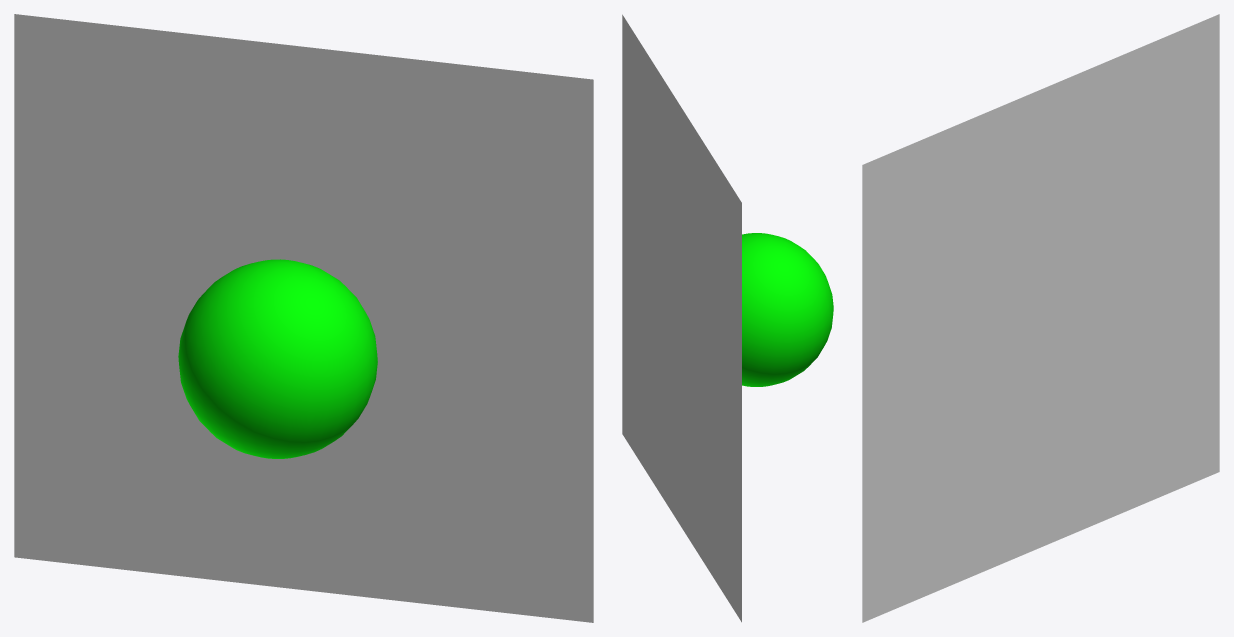
The picture shows the model from 3 angles, left to right: view 1: azimuth 30°, elevation 25°; view 2: azimuth 150°, elevation 25°; view 3: azimuth 270°, elevation 25°; orthographic projection. The views are drawn at different scales.
Visible parts, largest first — view 1: Plane, Sphere; view 2: Plane, Sphere; view 3: Plane.
Part boxes in pixels (box(x1,y1,x2,y2)): Plane: box(14, 14, 593, 622); Sphere: box(178, 259, 377, 458); Plane: box(622, 14, 741, 622); Sphere: box(742, 233, 833, 386); Plane: box(862, 14, 1219, 622).
Size of the model in its own units: 4.24 by 6 by 4.24.
